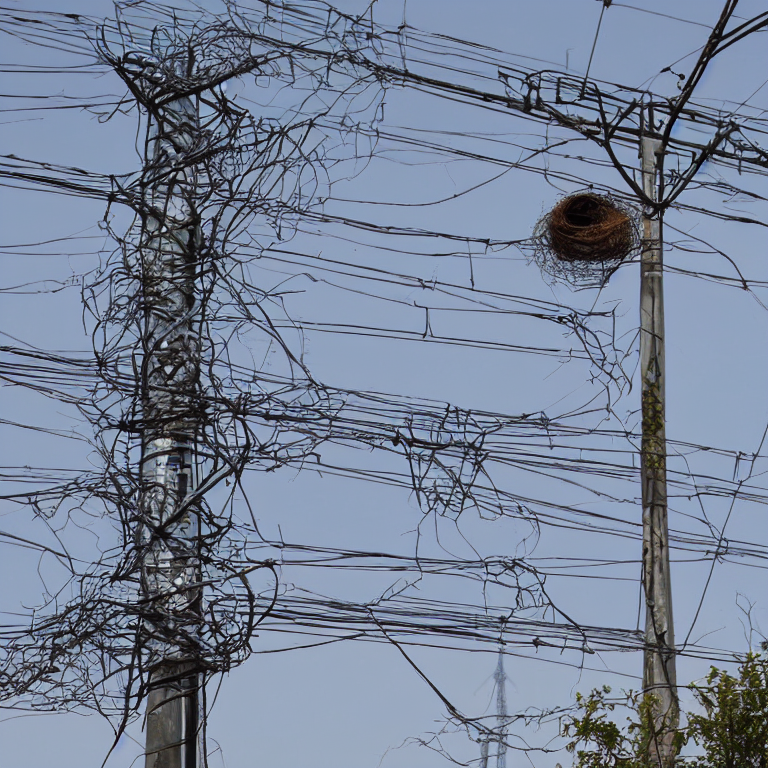nest: (545, 200, 633, 268)
